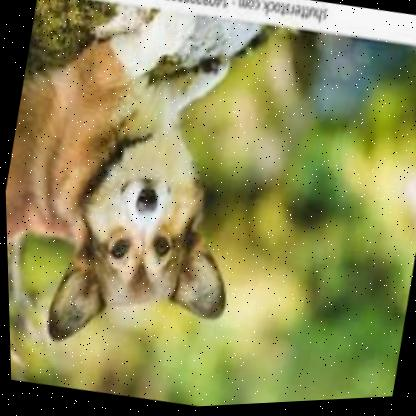dog: (0, 0, 281, 373)
